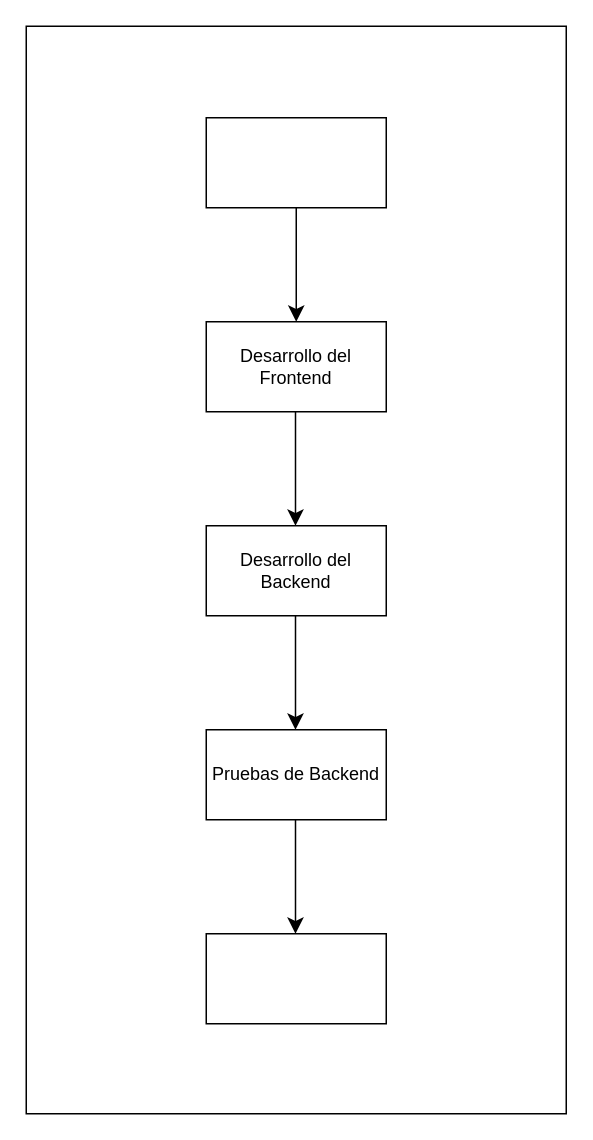
Some shapes in this 593 by 1140 pixel diagram are drawn without their labels. The centre of each missing label's shape, as x and y in pixels:
"Diseño de Calíope" belongs at [295,162].
"Enlazamiento y Pruebas" belongs at [295,978].
